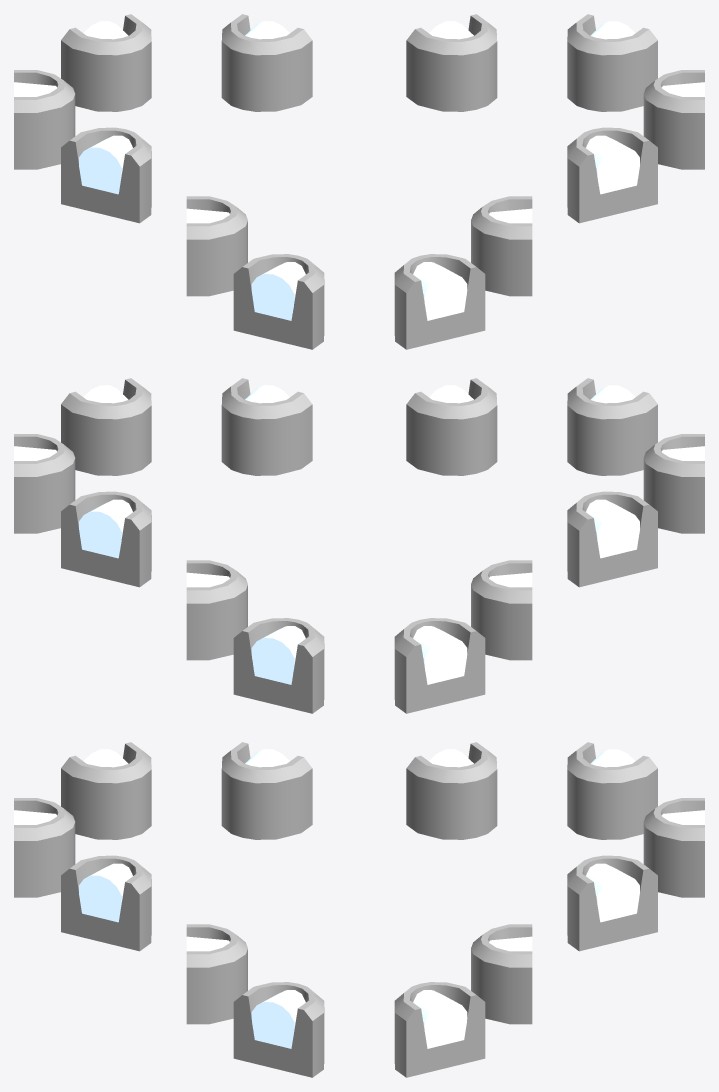
Rendered from SM_Module_PowerSocket_Hex3.fbx.
3 views of the same model, one above another, from view 1: azimuth 30°, elevation 25°; view 2: azimuth 150°, elevation 25°; view 3: azimuth 270°, elevation 25° (orthographic).
Visible parts, largest first — view 1: SM_Module_PowerSocket; view 2: SM_Module_PowerSocket; view 3: SM_Module_PowerSocket.
Part boxes in pixels (x1,y1,x2,y2): SM_Module_PowerSocket: [14, 14, 704, 349]; SM_Module_PowerSocket: [14, 378, 704, 713]; SM_Module_PowerSocket: [14, 742, 704, 1077].
Bounding box in the file's own units: 6.46 × 6.93 × 0.7294.
